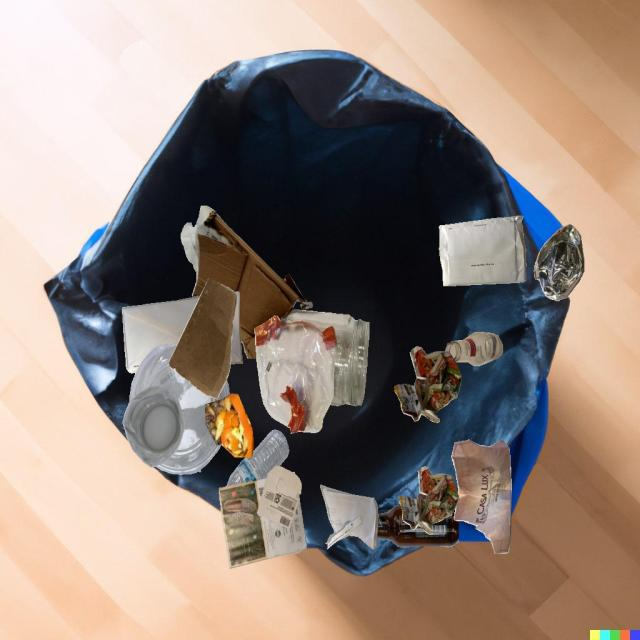biowaste: (205, 393, 254, 457)
cardboard: (180, 205, 313, 358), (168, 278, 237, 399)
glass: (284, 309, 369, 406), (377, 505, 459, 547), (445, 332, 503, 366)
metal: (534, 224, 584, 301)
paper: (219, 478, 307, 569), (451, 439, 511, 554), (439, 216, 526, 286), (122, 295, 200, 373), (394, 346, 462, 423), (398, 466, 459, 535), (320, 484, 378, 549), (257, 466, 302, 529)
plastic: (129, 344, 230, 475), (254, 316, 337, 433), (123, 385, 185, 467), (226, 430, 289, 486)
